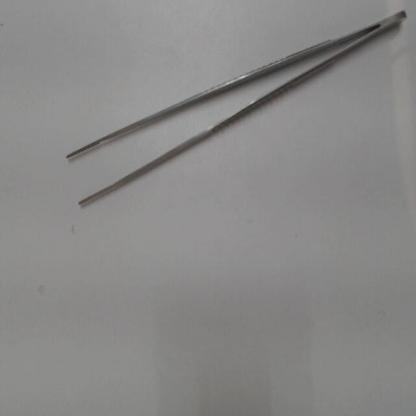DeBakey Dissector: (56, 4, 412, 233)
